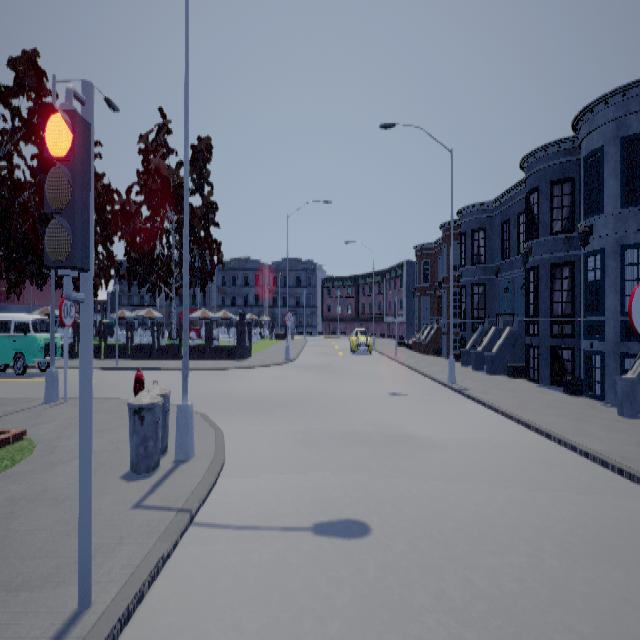red_light: (37, 83, 92, 325)
traffic_sign: (629, 283, 640, 333), (60, 295, 79, 323), (286, 310, 294, 323)
vehicle: (1, 311, 60, 374), (351, 326, 373, 354)
